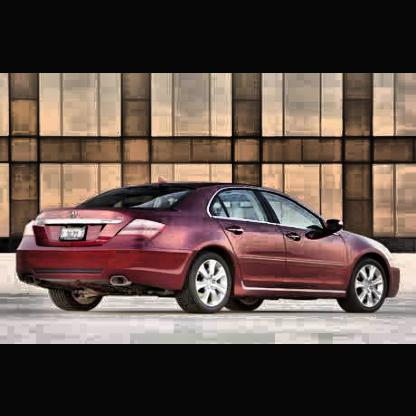Acura RL Sedan 2012: (16, 177, 403, 316)
